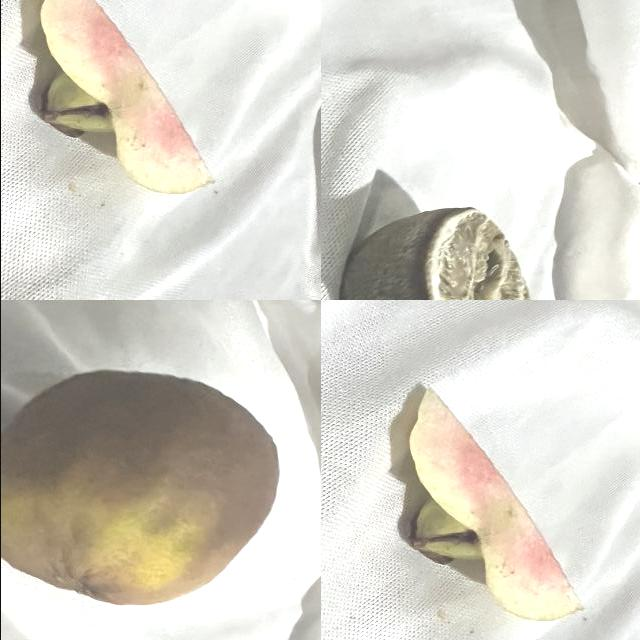Infectious: (2, 368, 281, 606), (407, 386, 586, 621), (339, 206, 531, 301)
Pathological: (321, 298, 639, 638)
Sharps: (38, 0, 216, 195)
